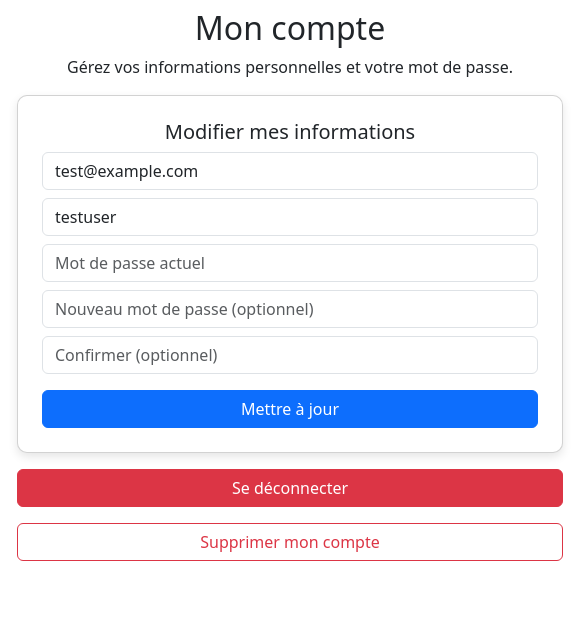
Test: AccountView › appelle la fonction de déconnexion et redirige vers la page d'accueil
Click the button with class "btn-danger".
click(290, 488)  # box [17, 469, 563, 507]
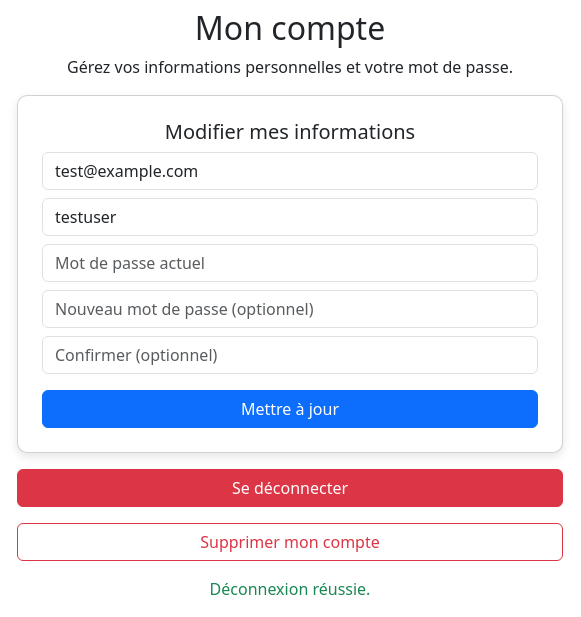
Result: the text "Déconnexion réussie." is shown at [210, 578, 370, 600]
